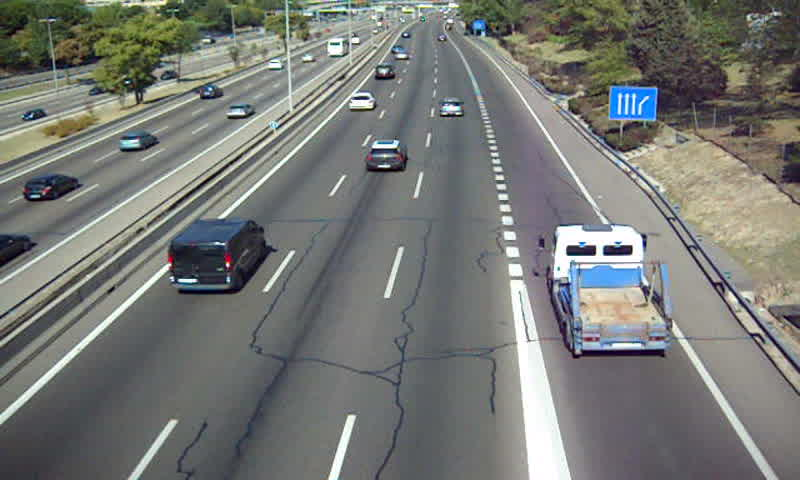car: (366, 139, 407, 172), (346, 92, 375, 111), (438, 97, 464, 118), (374, 65, 394, 81), (393, 50, 411, 62)
small-truck: (550, 225, 671, 356)
van: (167, 219, 263, 294)
